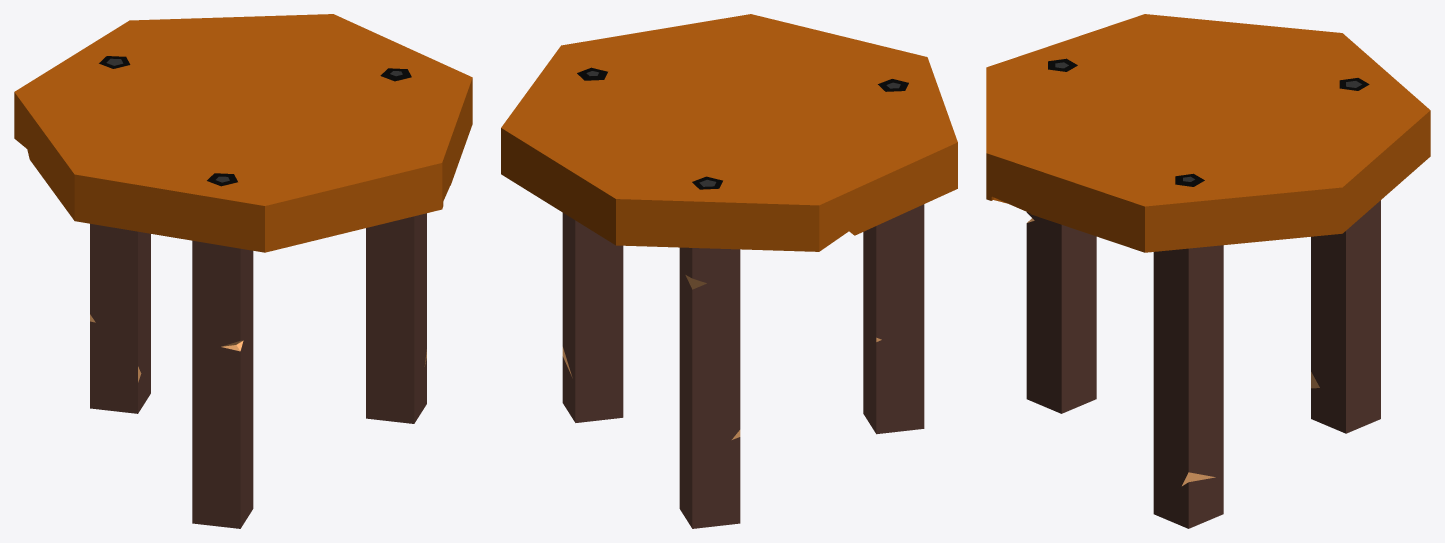
The model's file is Stool.glb.
The picture shows the model from 3 angles, left to right: view 1: azimuth 30°, elevation 25°; view 2: azimuth 150°, elevation 25°; view 3: azimuth 270°, elevation 25°; orthographic projection.
Parts seen in each view (by area): view 1: Circle; view 2: Circle; view 3: Circle.
Boxes of the visible parts, box(x1,y1,x2,y2) form: Circle: box(14, 14, 472, 528); Circle: box(501, 14, 957, 528); Circle: box(986, 14, 1430, 528).
Size of the model in its own units: 2.09 by 1.69 by 2.03.
